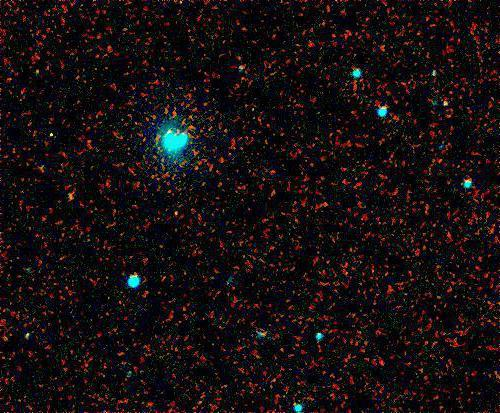star: (28, 153, 58, 183)
